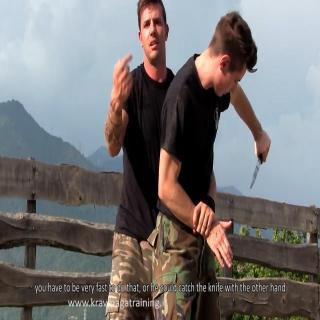knife: (246, 134, 272, 192)
